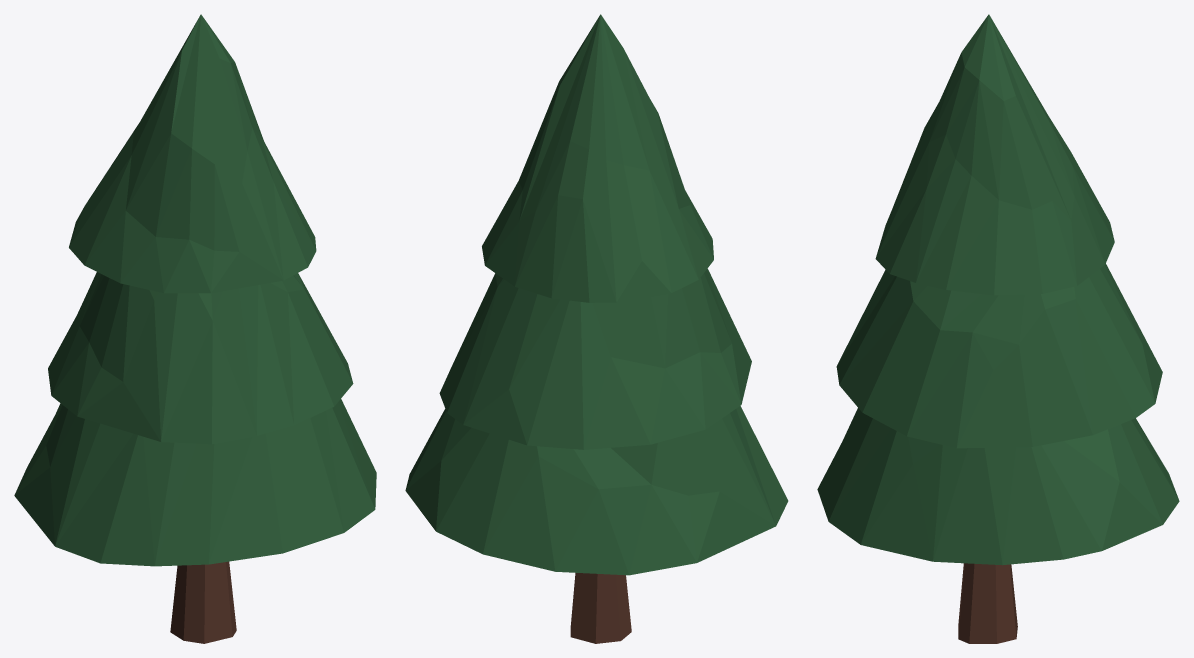
Rendered from SpruceTree.fbx.
The picture shows the model from 3 angles, left to right: view 1: azimuth 30°, elevation 25°; view 2: azimuth 150°, elevation 25°; view 3: azimuth 270°, elevation 25°; orthographic projection.
Parts seen in each view (by area): view 1: SpruceTree; view 2: SpruceTree; view 3: SpruceTree.
Boxes of the visible parts, x1,y1,x2,y2 form: SpruceTree: (14,14,376,643); SpruceTree: (405,14,788,643); SpruceTree: (817,14,1179,643).
Bounding box in the file's own units: 887 × 1630 × 867.
